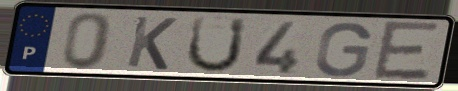0: (58, 10, 115, 72)
4: (251, 19, 302, 75)
E: (370, 19, 443, 82)
G: (312, 20, 374, 79)
K: (123, 14, 180, 73)
U: (183, 15, 250, 75)
